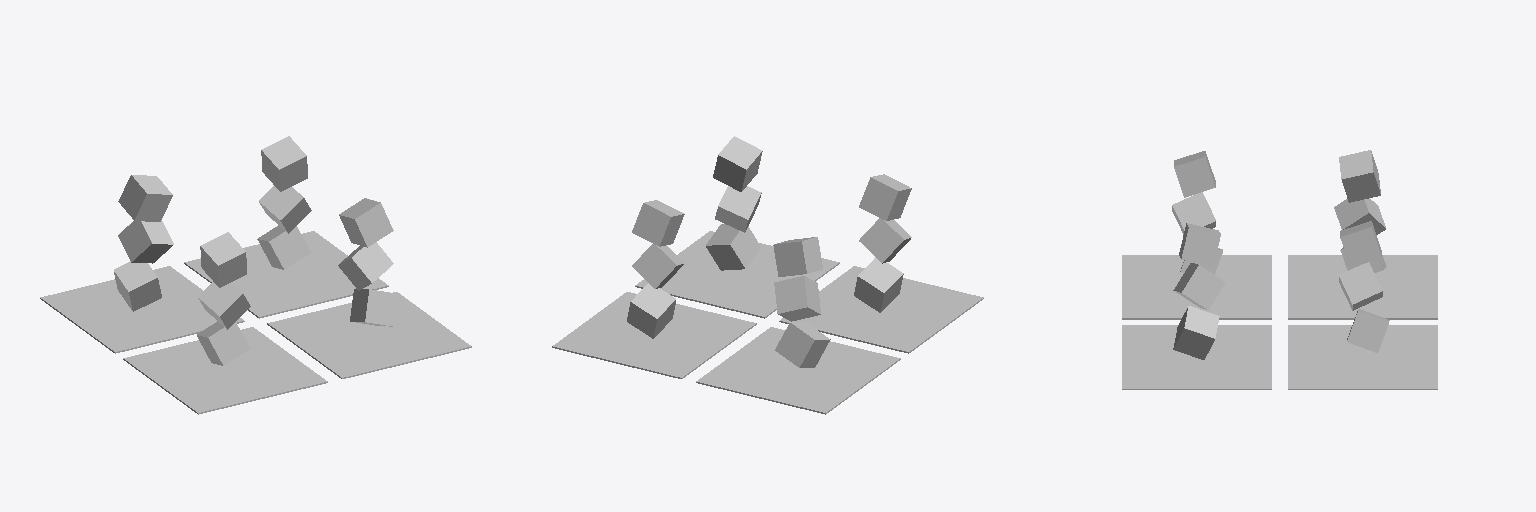
File: cube-stacks.obj
3 renders of one model, left to right at view 1: azimuth 30°, elevation 25°; view 2: azimuth 150°, elevation 25°; view 3: azimuth 270°, elevation 25°, orthographic.
Parts seen in each view (by area): view 1: model.2; view 2: model.2; view 3: model.2.
Boxes of the visible parts, box(x1,y1,x2,y2) form: model.2: box(40, 136, 471, 414); model.2: box(552, 136, 983, 414); model.2: box(1122, 150, 1437, 389).
Size of the model in its own units: 19 by 8.95 by 19.